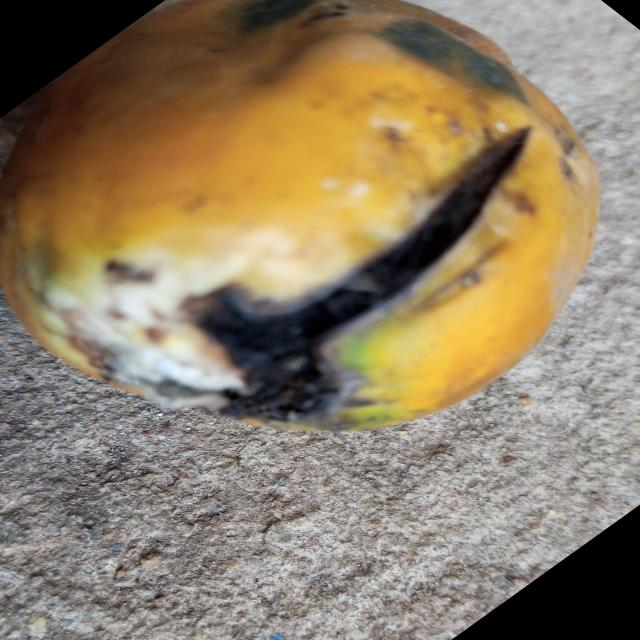damaged: (0, 0, 599, 430)
